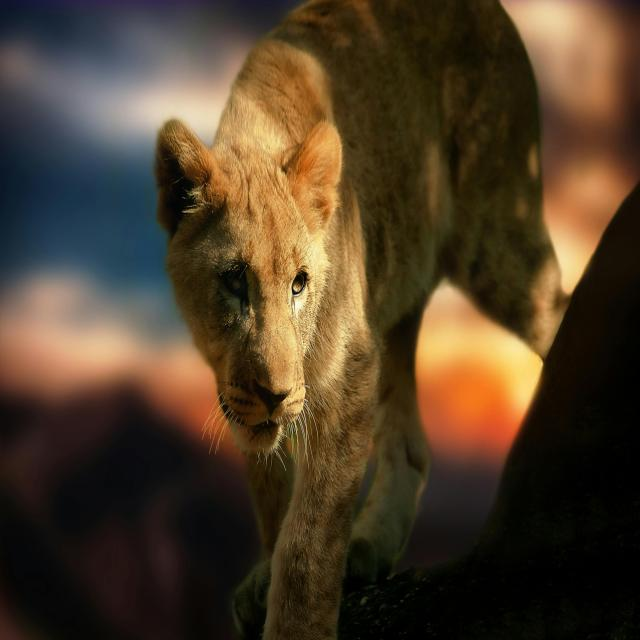Lion: (156, 0, 584, 640)
